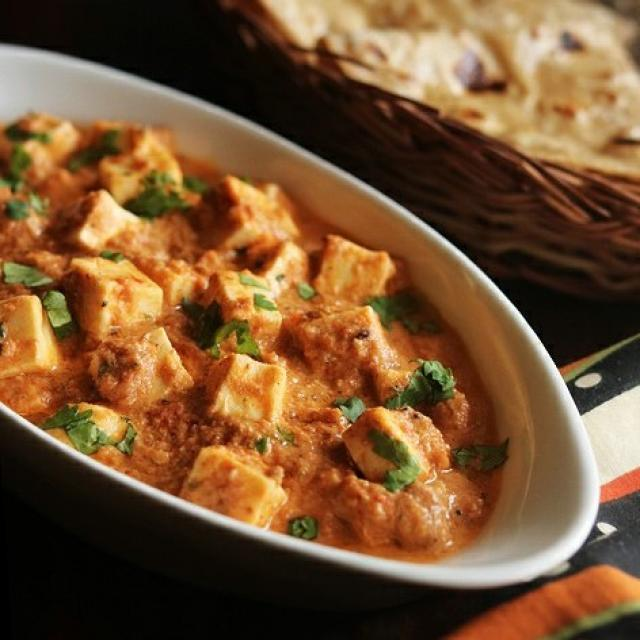ShahiPaneer: (1, 79, 510, 572)
